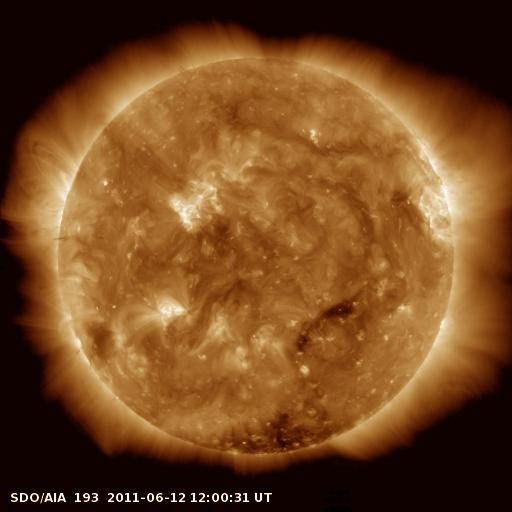coronal_hole: (209, 416, 331, 454), (295, 300, 354, 349)
